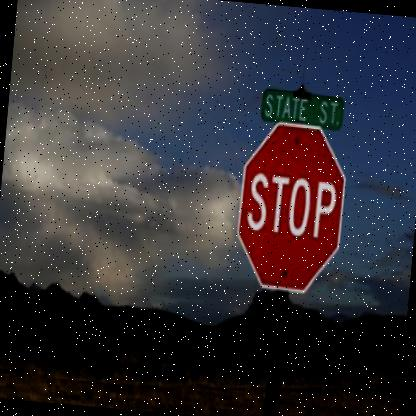stop: (230, 115, 348, 292)
